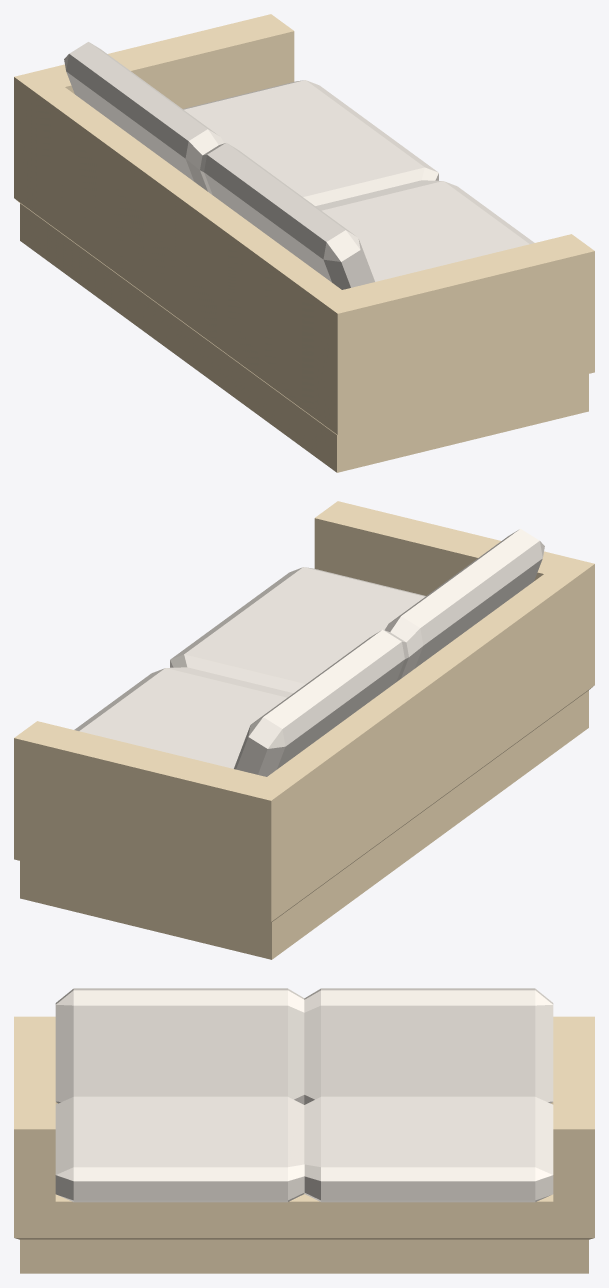
Rendered from Couch_v02.fbx.
The picture shows the model from 3 angles, top to bottom: view 1: azimuth 30°, elevation 25°; view 2: azimuth 150°, elevation 25°; view 3: azimuth 270°, elevation 25°; orthographic projection. The views are drawn at different scales.
Parts seen in each view (by area): view 1: Cube, btm_cushions, back_cushions; view 2: Cube, btm_cushions, back_cushions; view 3: Cube, back_cushions, btm_cushions.
Boxes of the visible parts, bbox=[...] form: Cube: bbox=[14, 14, 594, 472]; btm_cushions: bbox=[183, 80, 534, 281]; back_cushions: bbox=[64, 42, 374, 289]; Cube: bbox=[14, 501, 594, 959]; btm_cushions: bbox=[74, 567, 425, 768]; back_cushions: bbox=[234, 529, 544, 776]; Cube: bbox=[14, 1016, 594, 1273]; back_cushions: bbox=[55, 988, 553, 1104]; btm_cushions: bbox=[55, 1096, 553, 1202].
Size of the model in its own units: 170 by 127 by 350.
